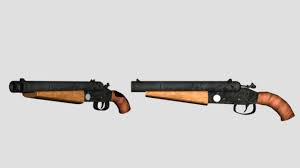weapon: (132, 79, 295, 121), (9, 79, 131, 115)
